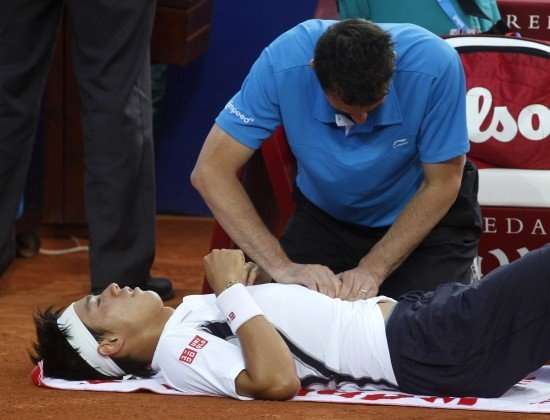falling: (13, 242, 544, 397)
